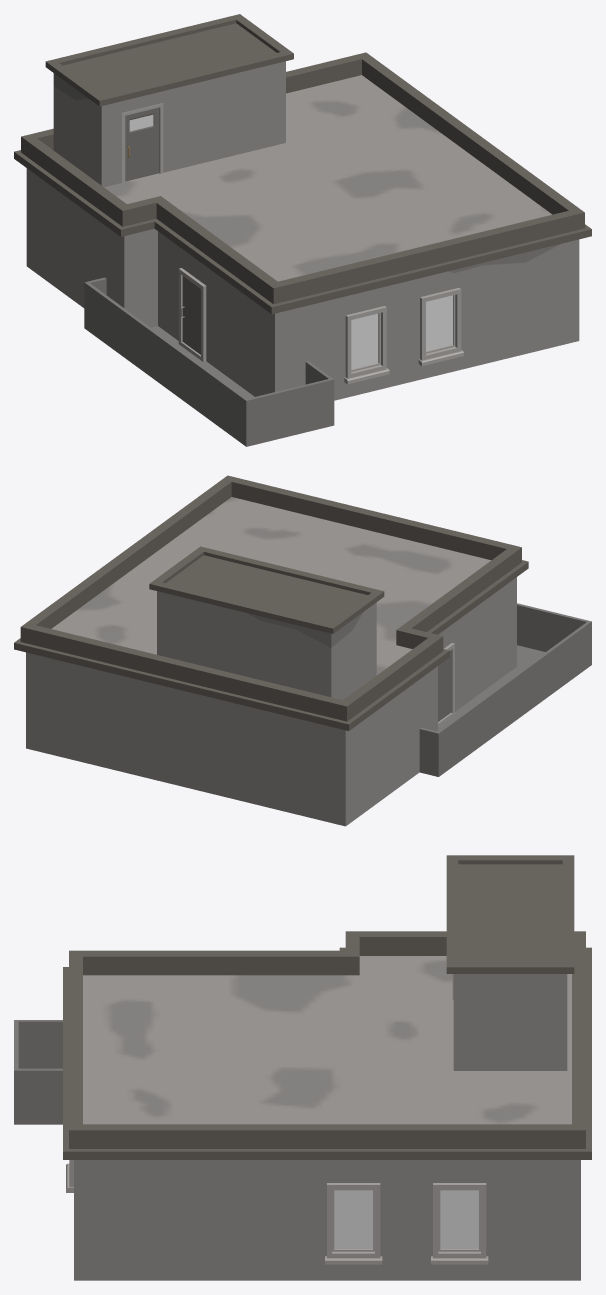
File: SM_Bldg_City_Commercial_09_Roof.fbx
3 views of the same model, one above another, from view 1: azimuth 30°, elevation 25°; view 2: azimuth 150°, elevation 25°; view 3: azimuth 270°, elevation 25° (orthographic). The views are drawn at different scales.
Parts seen in each view (by area): view 1: SM_Bldg_City_Commercial_09_Roof, SM_Bldg_City_Commercial_09_Roof_Glass; view 2: SM_Bldg_City_Commercial_09_Roof; view 3: SM_Bldg_City_Commercial_09_Roof, SM_Bldg_City_Commercial_09_Roof_Glass.
Boxes of the visible parts, box(x1,y1,x2,y2) form: SM_Bldg_City_Commercial_09_Roof: box(14, 14, 591, 446); SM_Bldg_City_Commercial_09_Roof_Glass: box(351, 295, 452, 369); SM_Bldg_City_Commercial_09_Roof: box(14, 475, 591, 826); SM_Bldg_City_Commercial_09_Roof: box(14, 855, 591, 1280); SM_Bldg_City_Commercial_09_Roof_Glass: box(334, 1190, 478, 1248).
Size of the model in its own units: 1084 by 574 by 1254.
